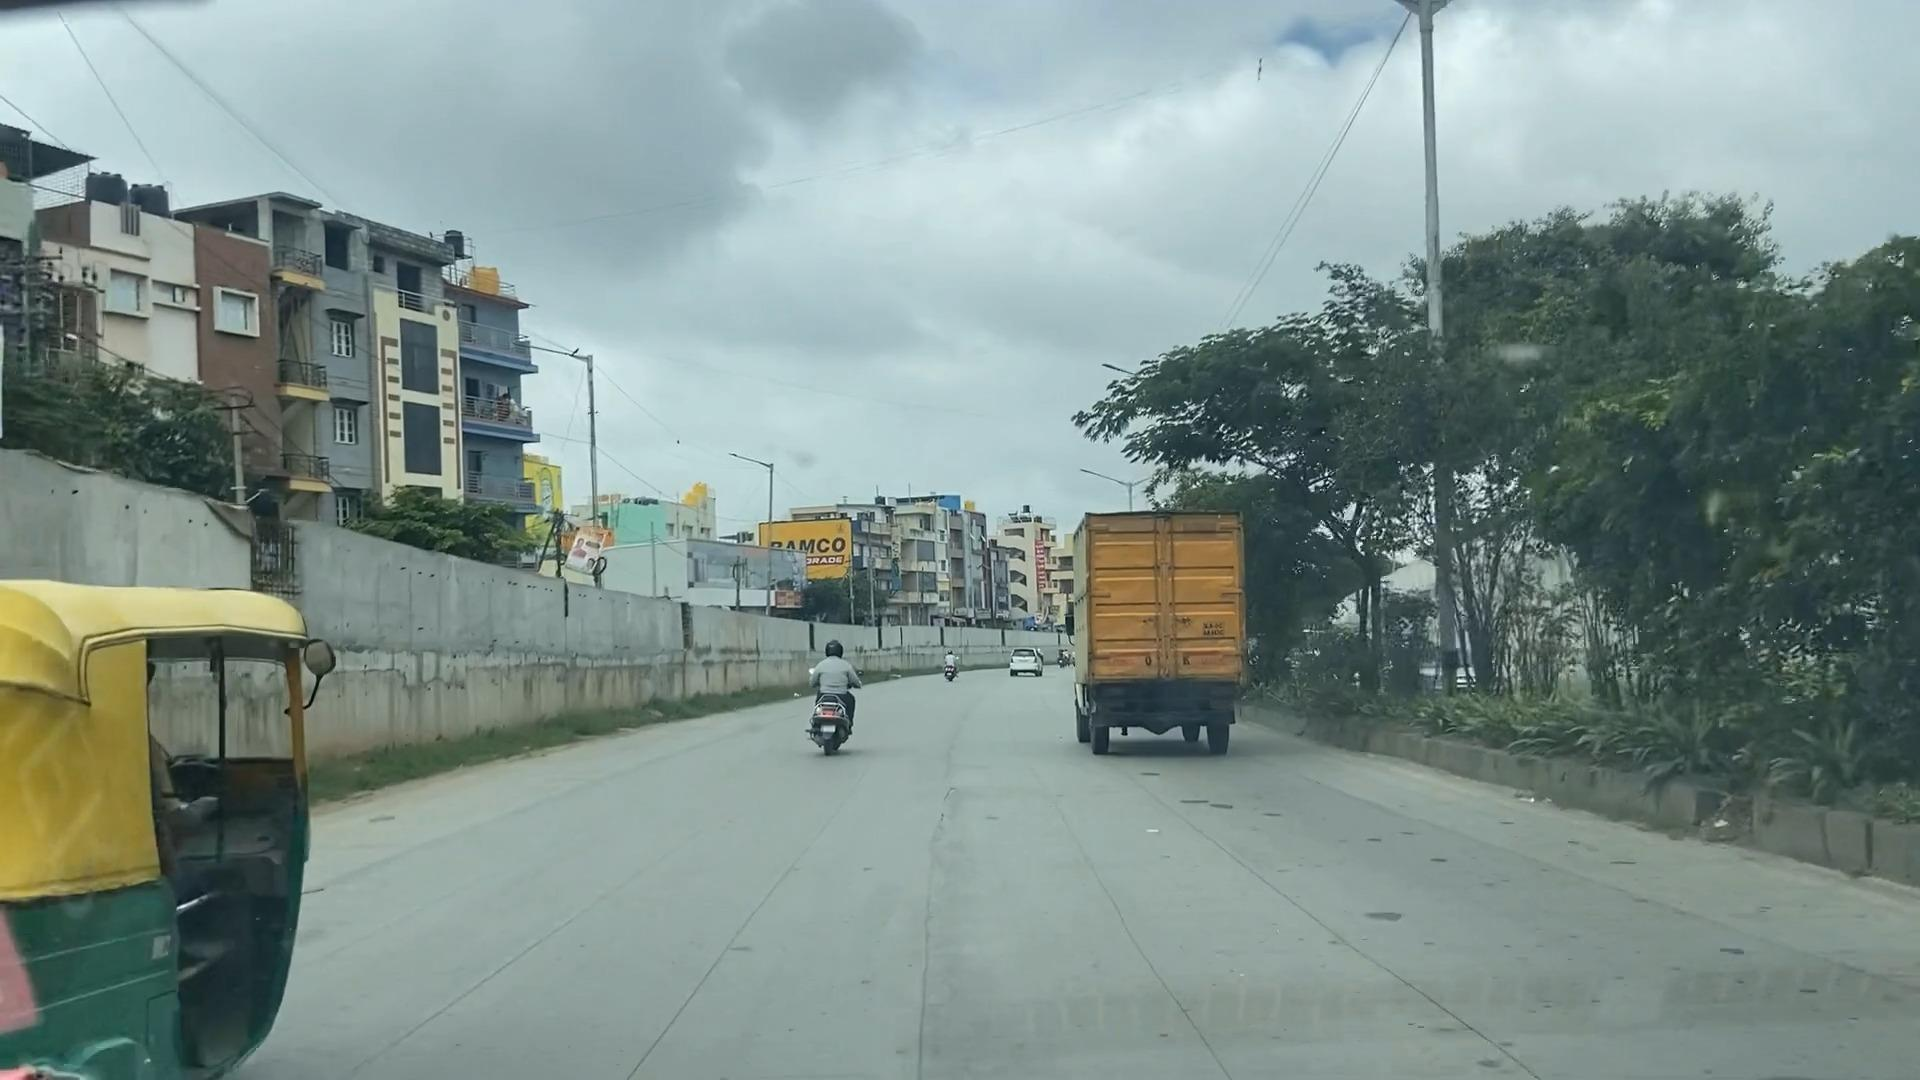HMV: (1038, 478, 1278, 796)
